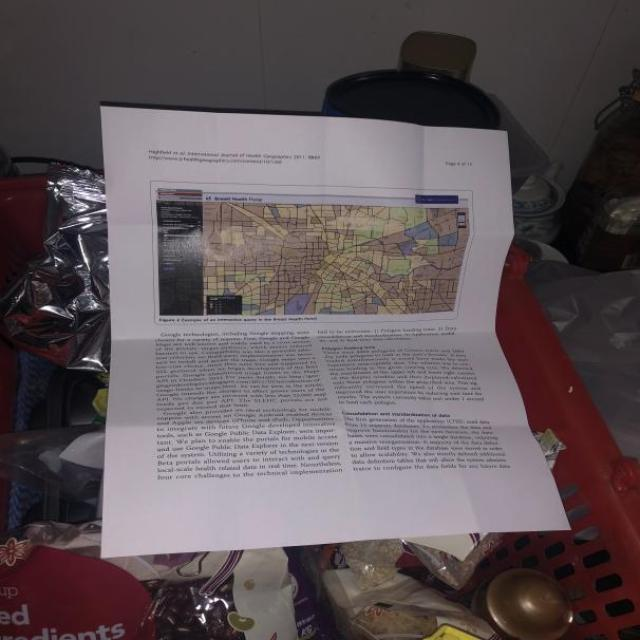kertas: (102, 106, 569, 557)
